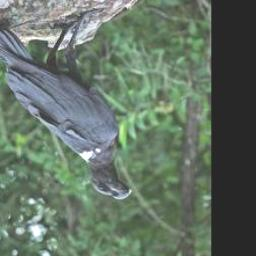Crow: (0, 8, 135, 203)
